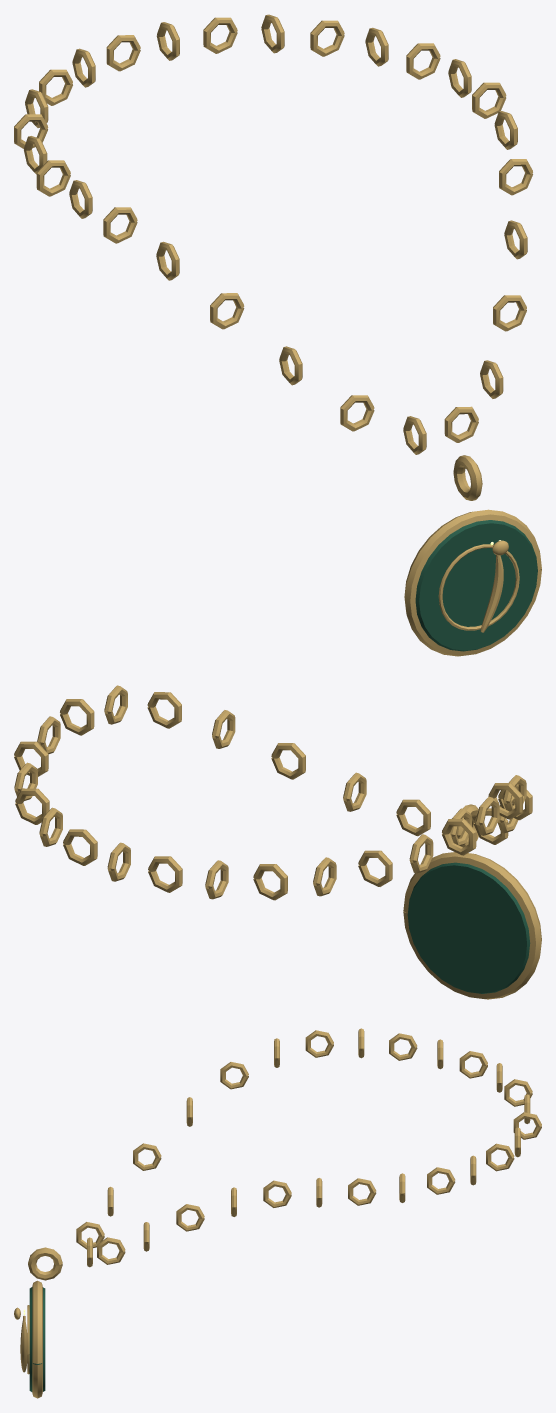
The model's file is boss_serpent_veil_accessory_3.glb.
The picture shows the model from 3 angles, top to bottom: view 1: azimuth 30°, elevation 25°; view 2: azimuth 150°, elevation 25°; view 3: azimuth 270°, elevation 25°; orthographic projection. The views are drawn at different scales.
Parts seen in each view (by area): view 1: boss_serpent_veil_accessory_3; view 2: boss_serpent_veil_accessory_3; view 3: boss_serpent_veil_accessory_3.
Part boxes in pixels (<box>): boss_serpent_veil_accessory_3: <box>14,14,541,656</box>; boss_serpent_veil_accessory_3: <box>14,685,541,999</box>; boss_serpent_veil_accessory_3: <box>14,1028,541,1398</box>.
Size of the model in its own units: 0.3419 by 0.2865 by 0.4743.
